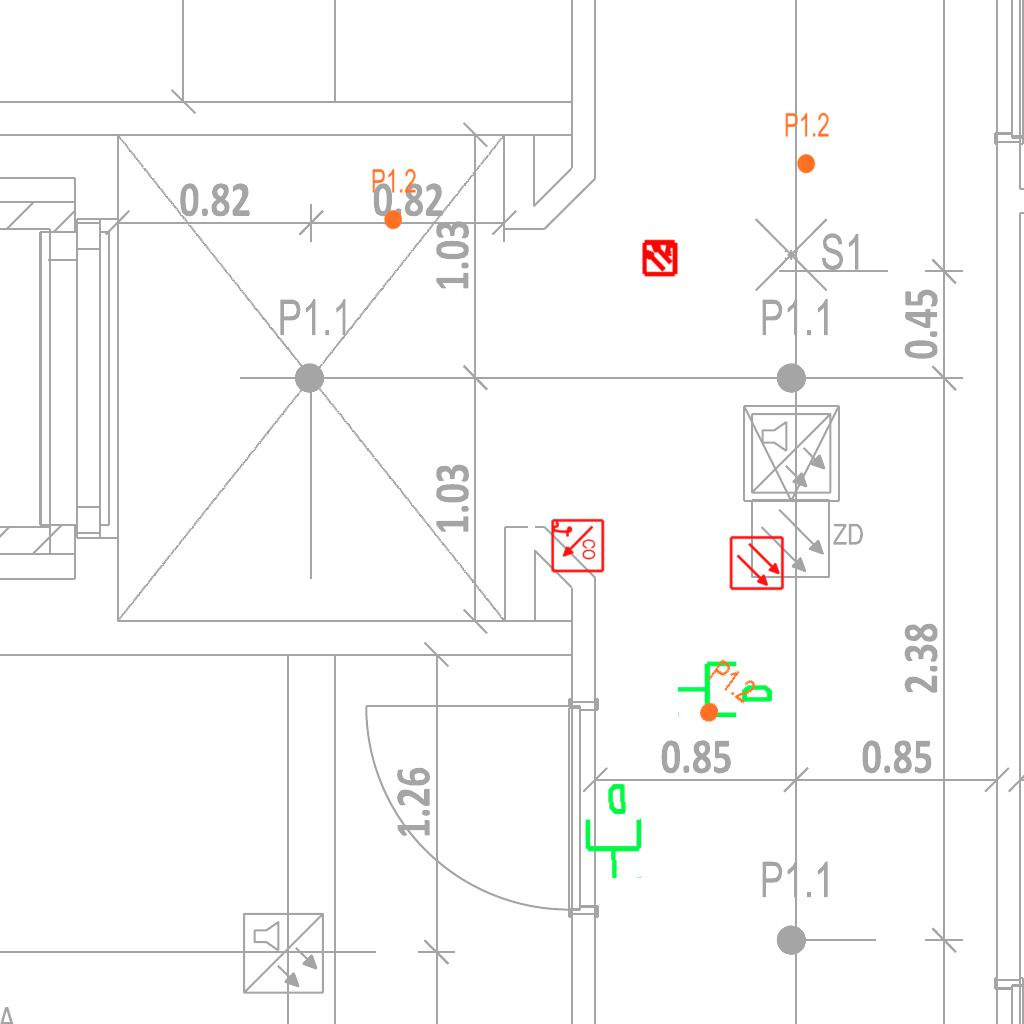Datenanschluss_einfach: (576, 780, 647, 882), (675, 653, 775, 722)
Downlight_LED_Einbauleuchten_Flur: (684, 656, 760, 736), (371, 167, 417, 231), (784, 111, 830, 175)
OT_Multisensormelder_(Kombination_RMO_WMD): (632, 229, 688, 285)
RMO_Rauchmelder_optischer: (729, 535, 785, 591)
ROA_Rauchmelder_optisch_mit_Signalgeber_(Sockelsirene): (549, 518, 605, 574)
